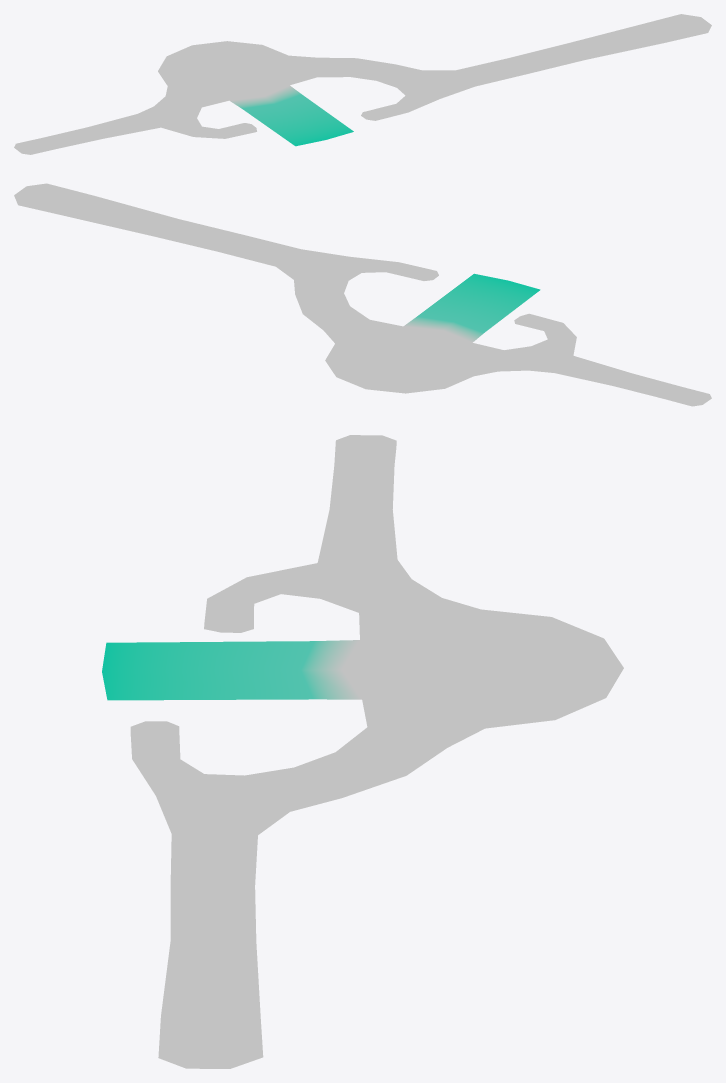
File: Wind Level Mesh.fbx
The picture shows the model from 3 angles, top to bottom: view 1: azimuth 30°, elevation 25°; view 2: azimuth 150°, elevation 25°; view 3: azimuth 270°, elevation 25°; orthographic projection. The views are drawn at different scales.
Parts seen in each view (by area): view 1: Plane; view 2: Plane; view 3: Plane.
Boxes of the visible parts, box(x1,y1,x2,y2) form: Plane: box(14, 14, 711, 154); Plane: box(14, 183, 711, 406); Plane: box(102, 435, 623, 1068).
Size of the model in its own units: 7357 by 0.000417 by 2561.
